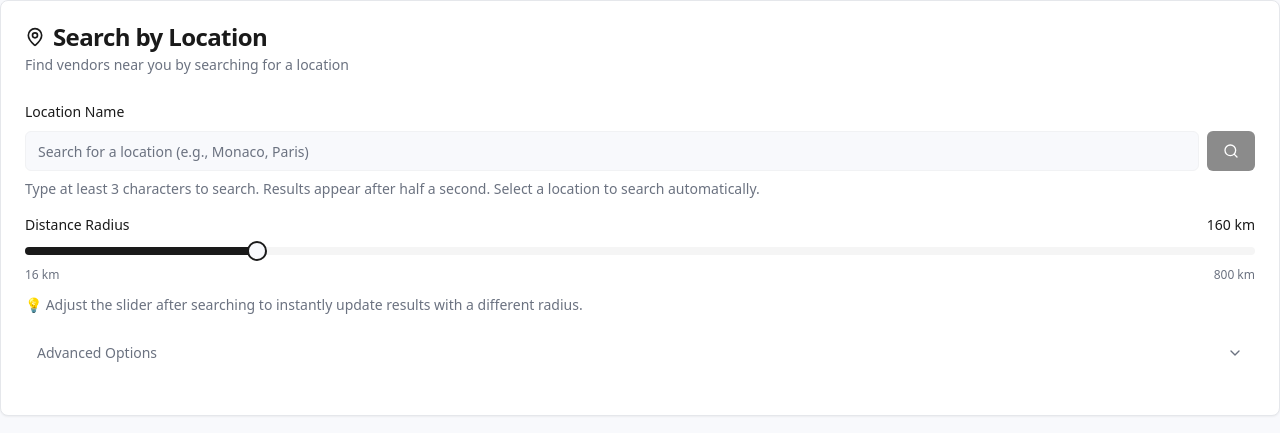
Test: LocationSearchFilter › Location Name Input › should update location input as user types
Type "M" into the field labelled "Location Name" at (612, 151), box [25,131,1199,171]
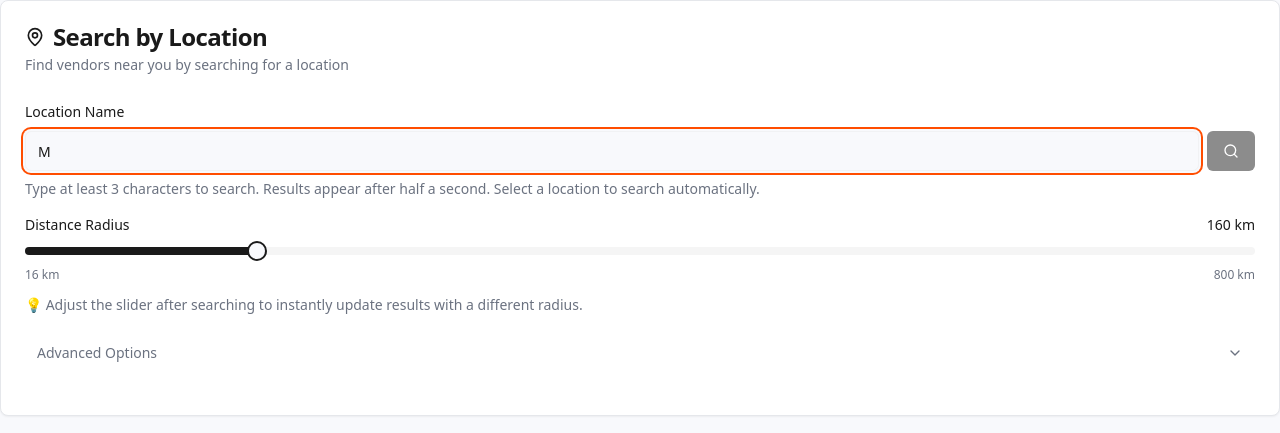
Type "o" into the field labelled "Location Name" at (612, 151), box [25,131,1199,171]
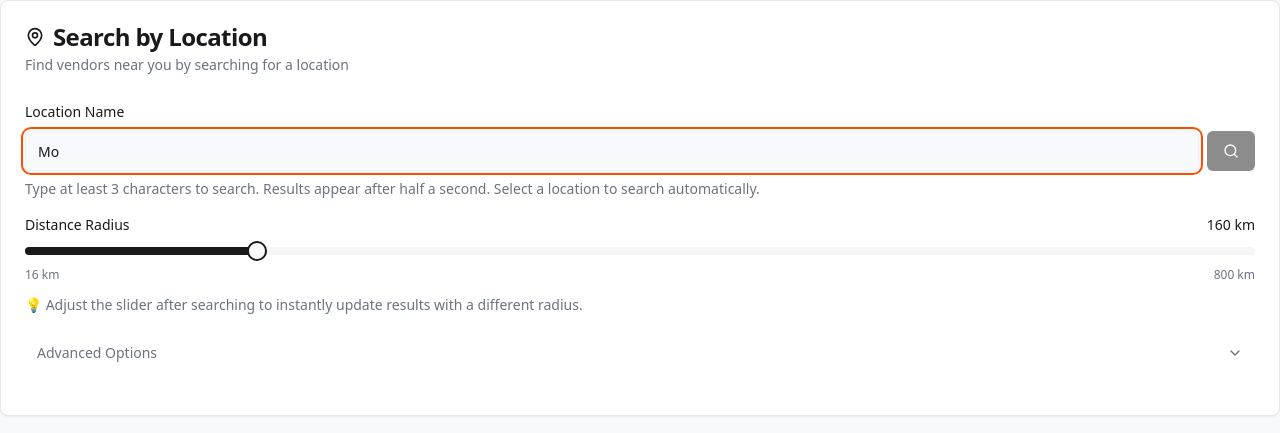
Now the field labelled "Location Name" holds "Mo", box [25,131,1199,171]
